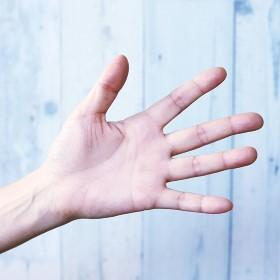pa-: (64, 51, 265, 218)
